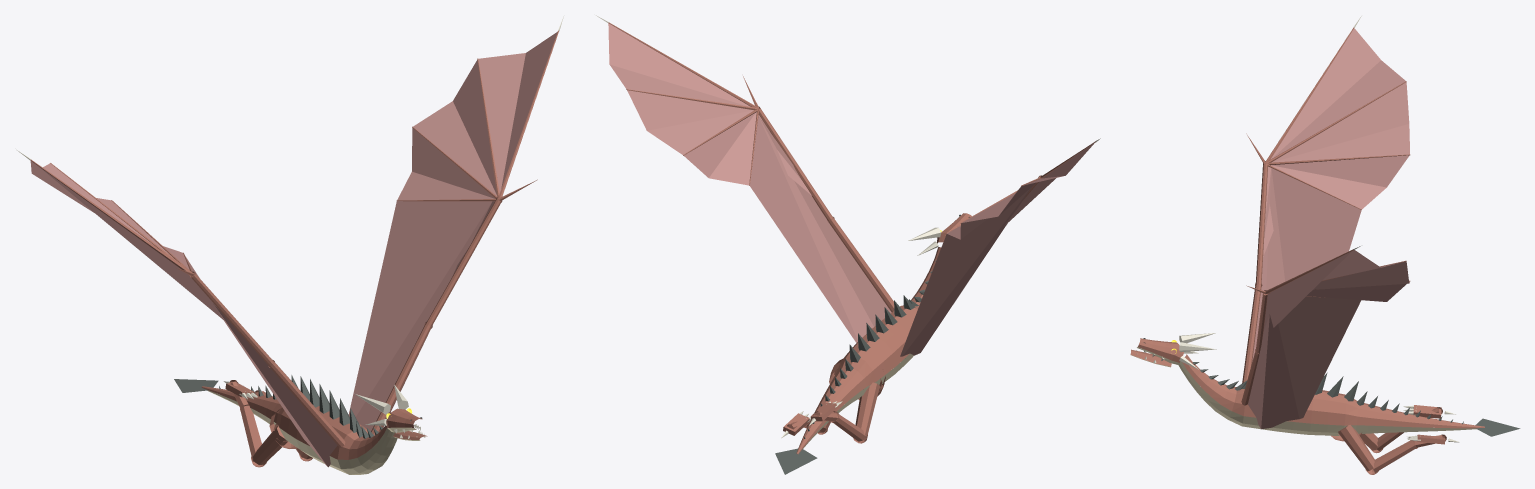
File: dragons-and-wyverns-wyvern-flying-wings-up-56c1b6fc__36717.glb
3 views of the same model, side by side, from view 1: azimuth 30°, elevation 25°; view 2: azimuth 150°, elevation 25°; view 3: azimuth 270°, elevation 25° (orthographic). The views are drawn at different scales.
Parts seen in each view (by area): view 1: wyvern-flying-wings-up; view 2: wyvern-flying-wings-up; view 3: wyvern-flying-wings-up.
Boxes of the visible parts, x1=… form: wyvern-flying-wings-up: x1=16, y1=16, x2=563, y2=474; wyvern-flying-wings-up: x1=596, y1=15, x2=1100, y2=474; wyvern-flying-wings-up: x1=1130, y1=16, x2=1520, y2=474.
Bounding box in the file's own units: 9.03 × 6.11 × 6.45.
